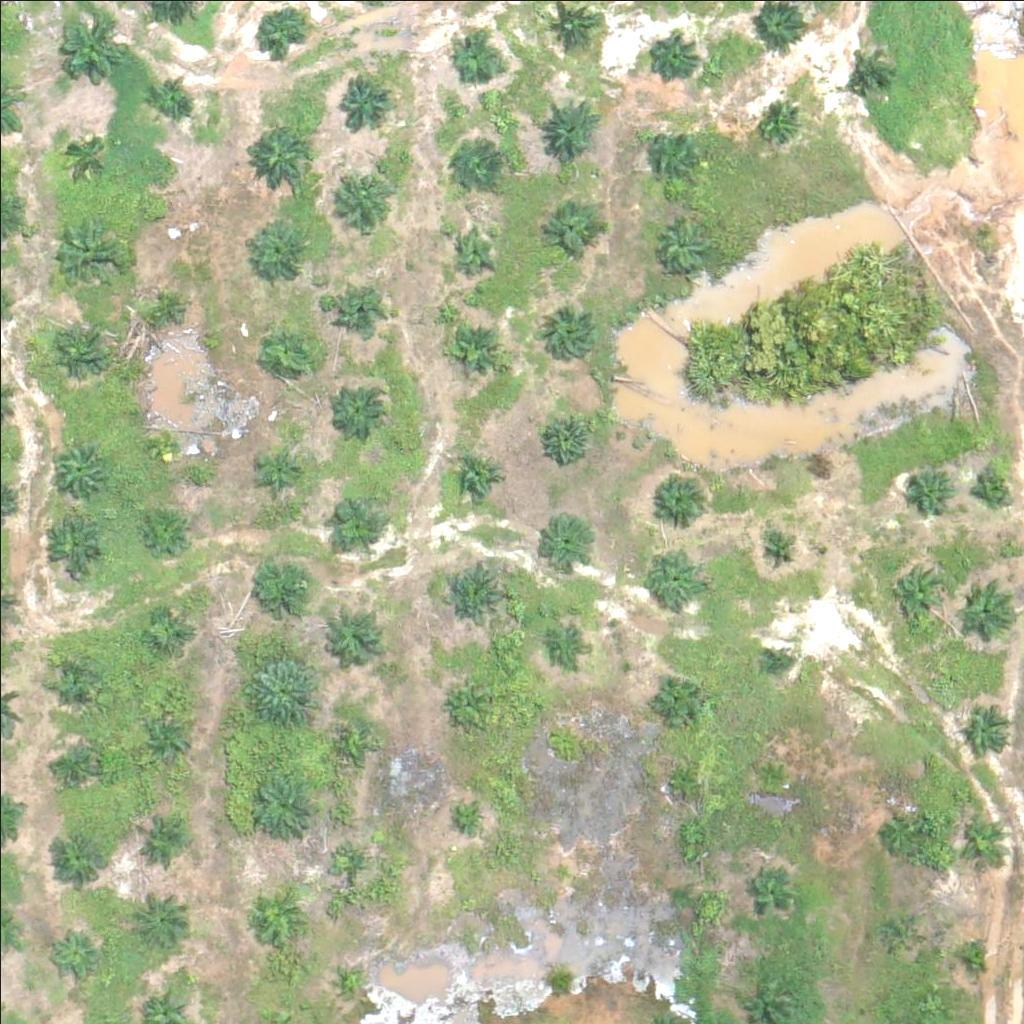Kelapa_Sawit: (247, 767, 322, 843), (243, 549, 318, 625), (48, 223, 123, 299), (243, 653, 318, 729), (63, 16, 126, 79), (326, 607, 389, 670), (41, 511, 104, 574), (538, 93, 601, 156), (441, 561, 504, 624), (125, 887, 188, 950), (46, 818, 109, 881), (887, 560, 950, 623), (248, 127, 310, 190), (330, 164, 392, 227), (50, 319, 112, 382), (251, 217, 313, 280), (648, 464, 710, 527), (444, 322, 506, 385), (644, 546, 706, 609), (954, 578, 1016, 641), (45, 433, 107, 495), (870, 807, 920, 858), (453, 38, 503, 89), (449, 137, 499, 188), (551, 200, 601, 251), (540, 514, 590, 565), (657, 215, 707, 266), (646, 132, 696, 183), (646, 34, 696, 85), (543, 413, 593, 464), (452, 449, 502, 500), (650, 677, 700, 728), (47, 930, 97, 981), (957, 813, 1007, 864), (338, 73, 388, 123), (257, 6, 307, 56), (331, 289, 381, 339), (328, 495, 378, 545), (332, 385, 382, 435), (142, 512, 192, 562), (143, 608, 193, 658), (265, 329, 315, 379), (546, 311, 596, 361), (250, 887, 300, 937), (61, 126, 111, 176), (146, 69, 196, 119), (138, 286, 188, 336), (752, 99, 802, 149), (843, 43, 893, 93), (49, 742, 99, 792), (47, 658, 97, 708), (141, 722, 191, 772), (136, 817, 186, 867), (962, 701, 1012, 751), (902, 465, 952, 515), (742, 868, 792, 918), (262, 451, 300, 489), (549, 621, 587, 659), (976, 467, 1014, 505), (445, 678, 482, 716), (456, 234, 493, 272), (758, 530, 795, 568), (753, 755, 791, 792), (879, 910, 917, 947), (661, 760, 698, 798), (335, 726, 360, 752), (342, 972, 367, 997), (337, 844, 362, 869), (454, 801, 479, 826), (154, 436, 179, 461), (147, 201, 172, 226), (764, 646, 789, 671), (963, 943, 988, 968), (548, 856, 573, 881)
